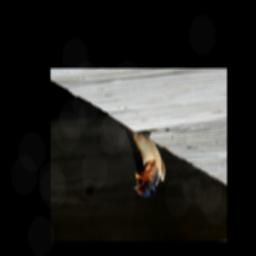Swallow: (127, 130, 166, 200)
